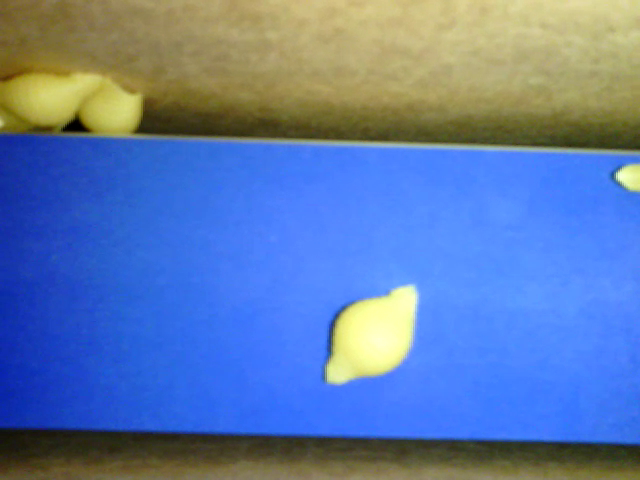penne: (607, 161, 639, 194)
shell: (325, 282, 415, 385), (1, 69, 100, 122), (81, 72, 144, 139), (1, 98, 78, 131)
